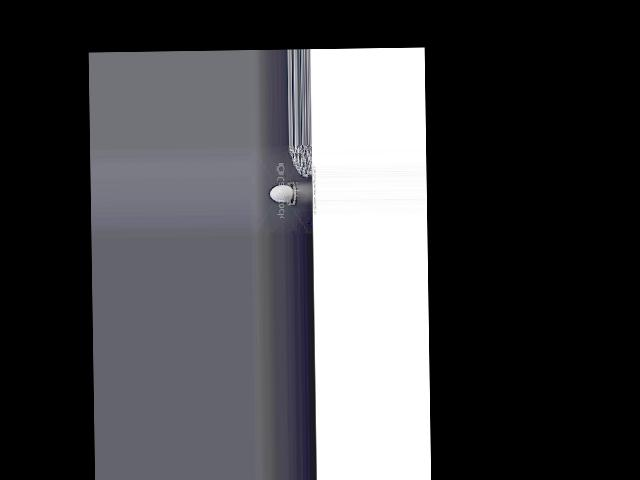egg: (270, 185, 294, 202)
